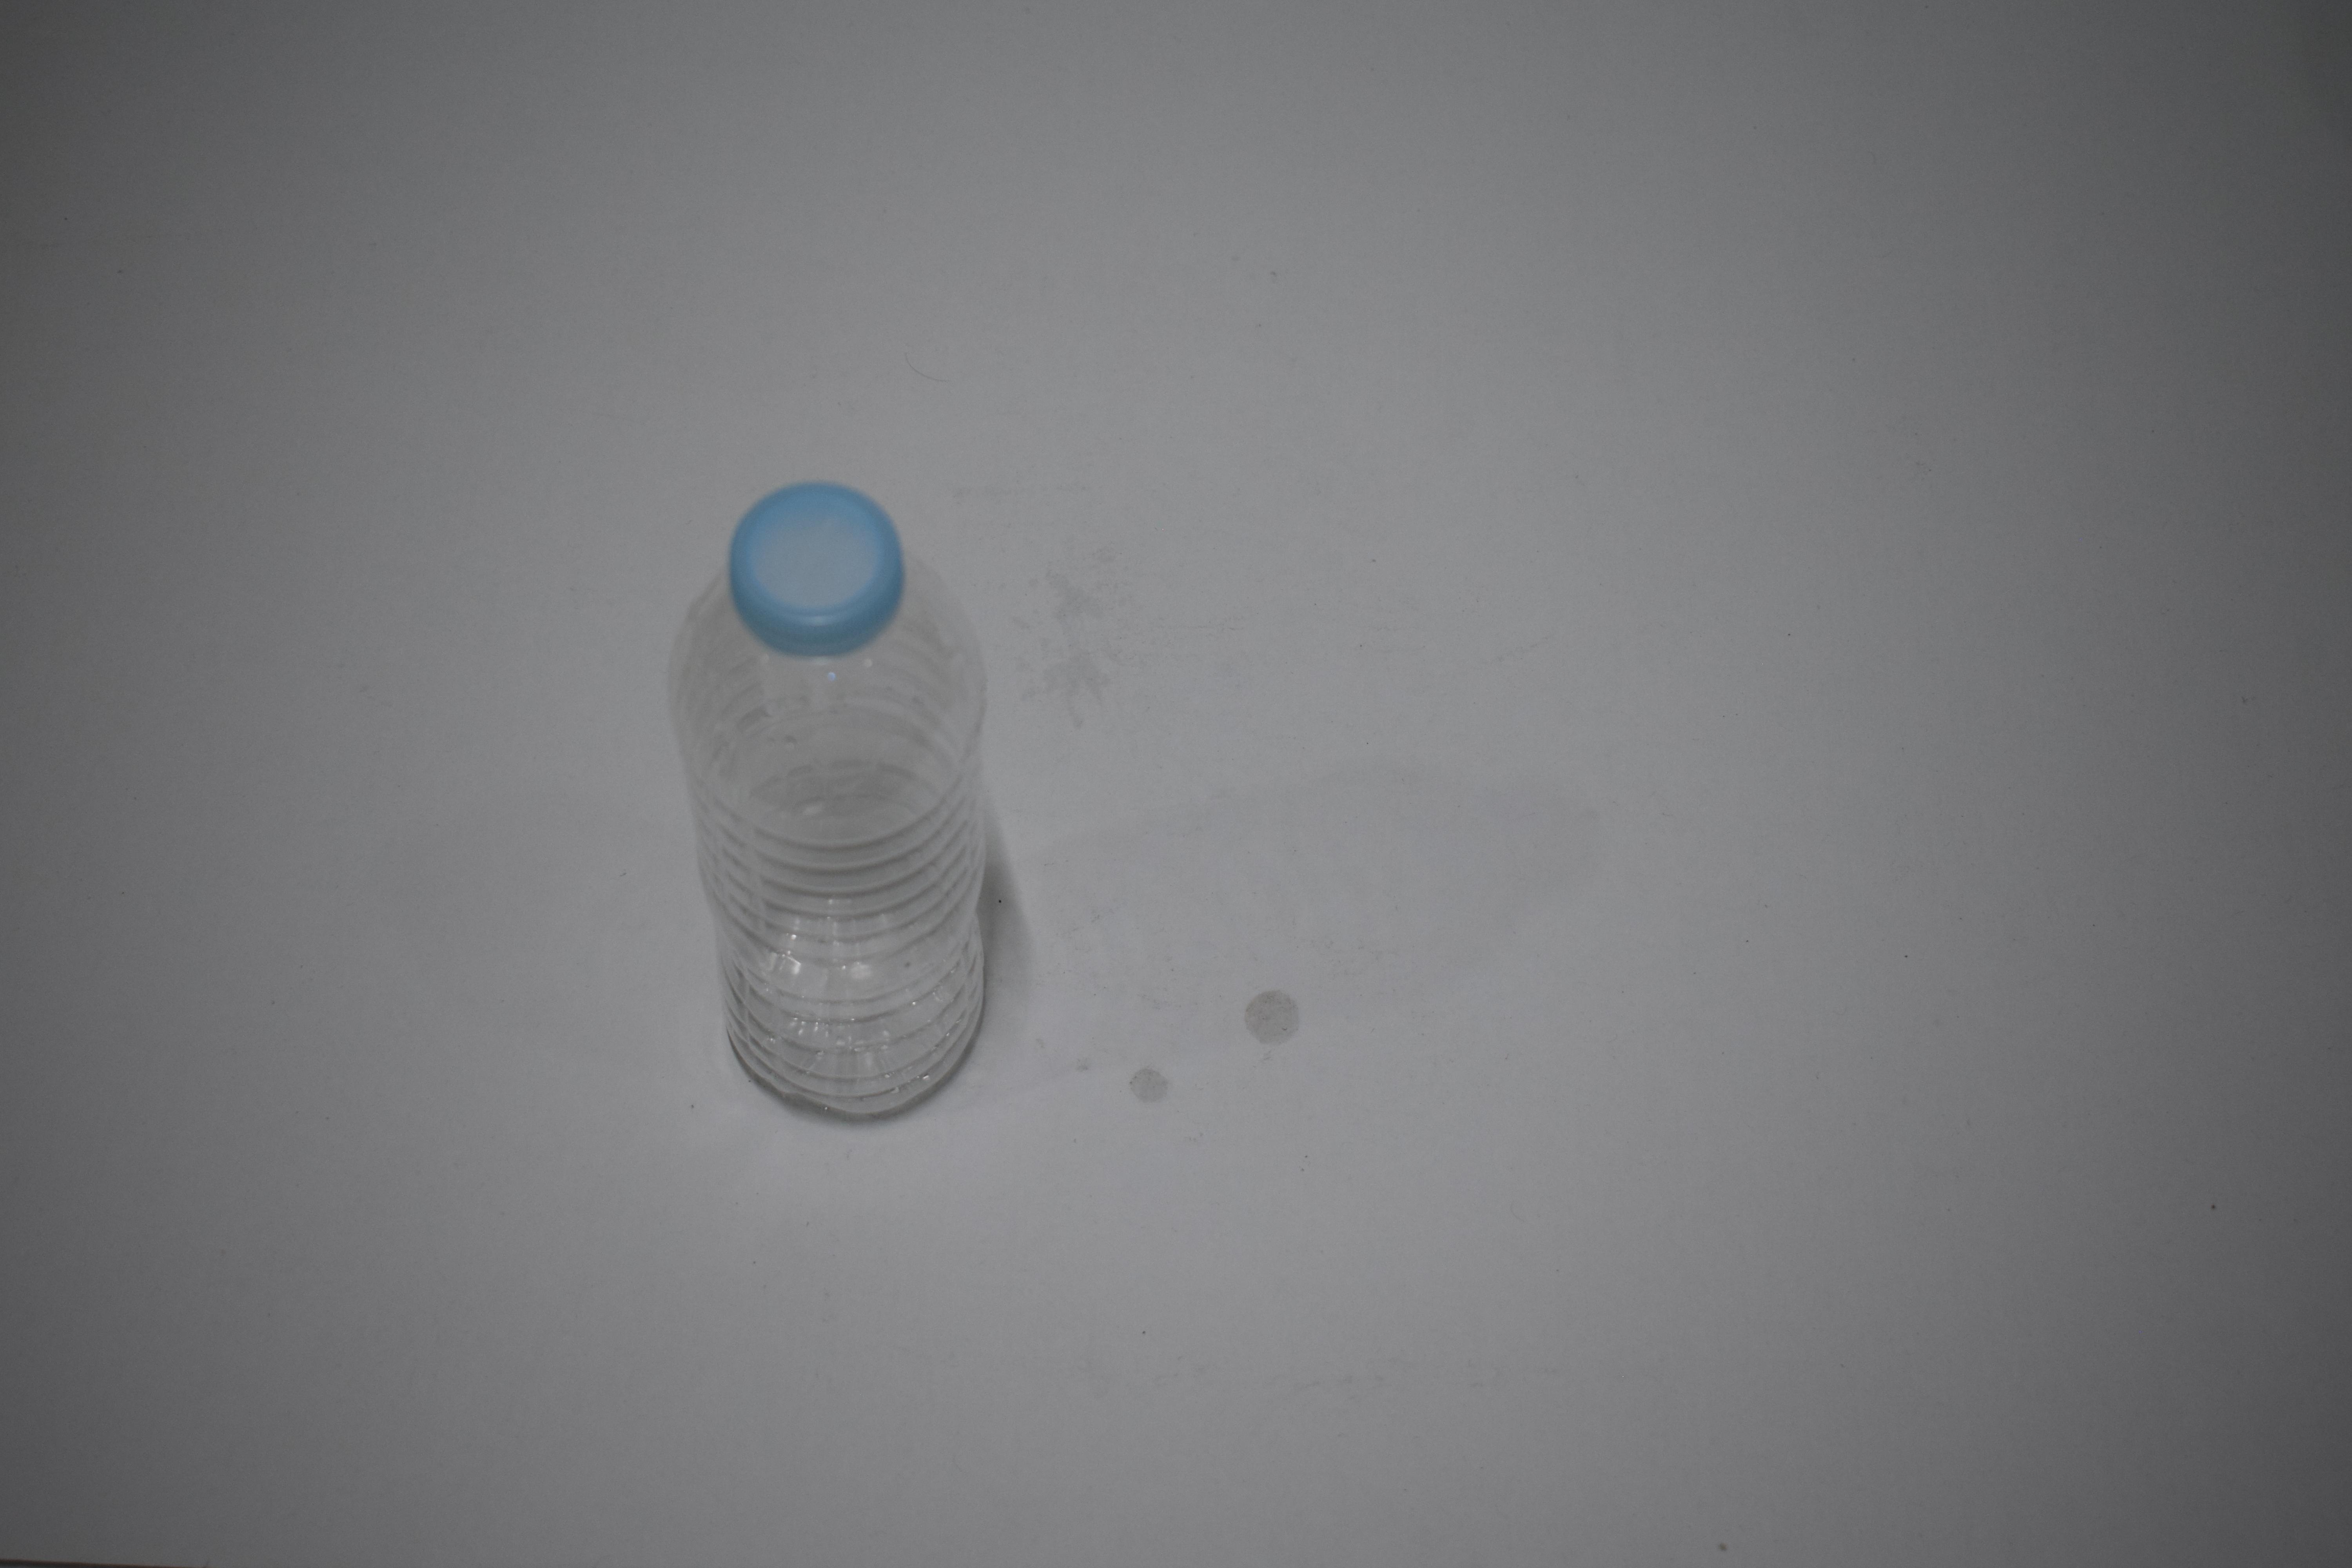bottle: (541, 0, 875, 345)
